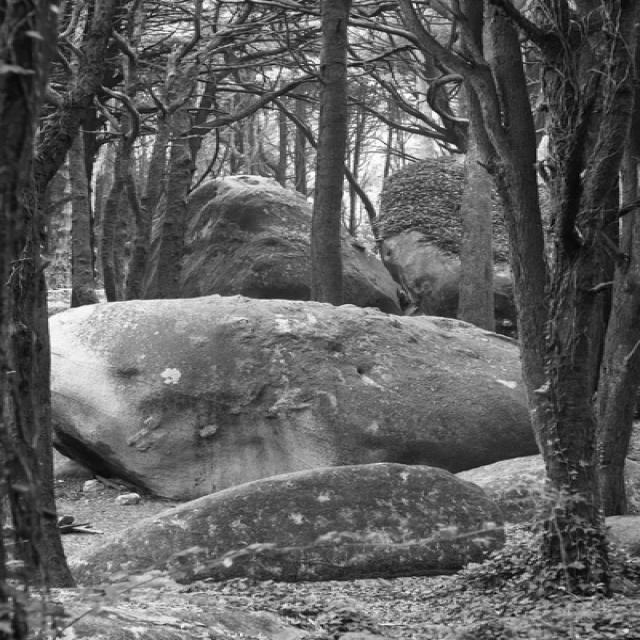Stone: (48, 295, 537, 500), (69, 464, 504, 583), (179, 175, 312, 300)
Tree: (401, 0, 640, 586), (0, 0, 72, 587), (310, 0, 352, 305)
